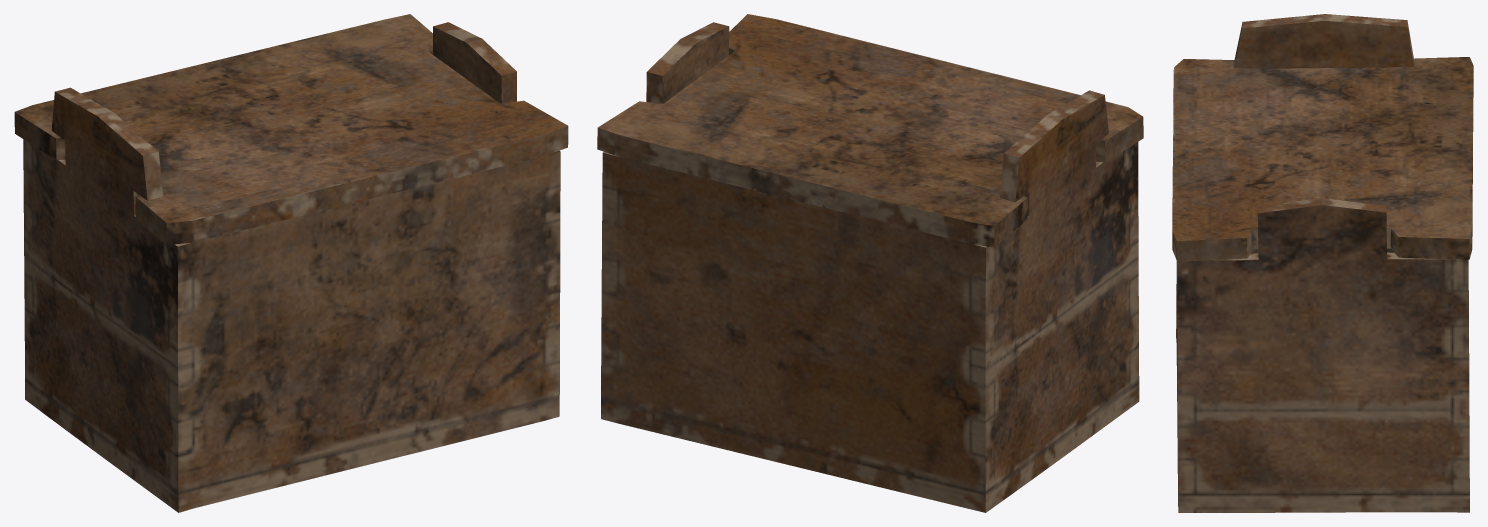
The model's file is Kasse 1.FBX.
3 renders of one model, left to right at view 1: azimuth 30°, elevation 25°; view 2: azimuth 150°, elevation 25°; view 3: azimuth 270°, elevation 25°, orthographic. The views are drawn at different scales.
Visible parts, largest first — view 1: Box015, Box016; view 2: Box015, Box016; view 3: Box015, Box016.
Part boxes in pixels (x1,y1,x2,y2): Box015: (23, 22, 560, 512); Box016: (14, 14, 568, 244); Box015: (601, 22, 1139, 512); Box016: (597, 14, 1143, 247); Box015: (1176, 14, 1469, 512); Box016: (1172, 57, 1473, 261).
Size of the model in its own units: 51.24 by 41.61 by 35.2.
